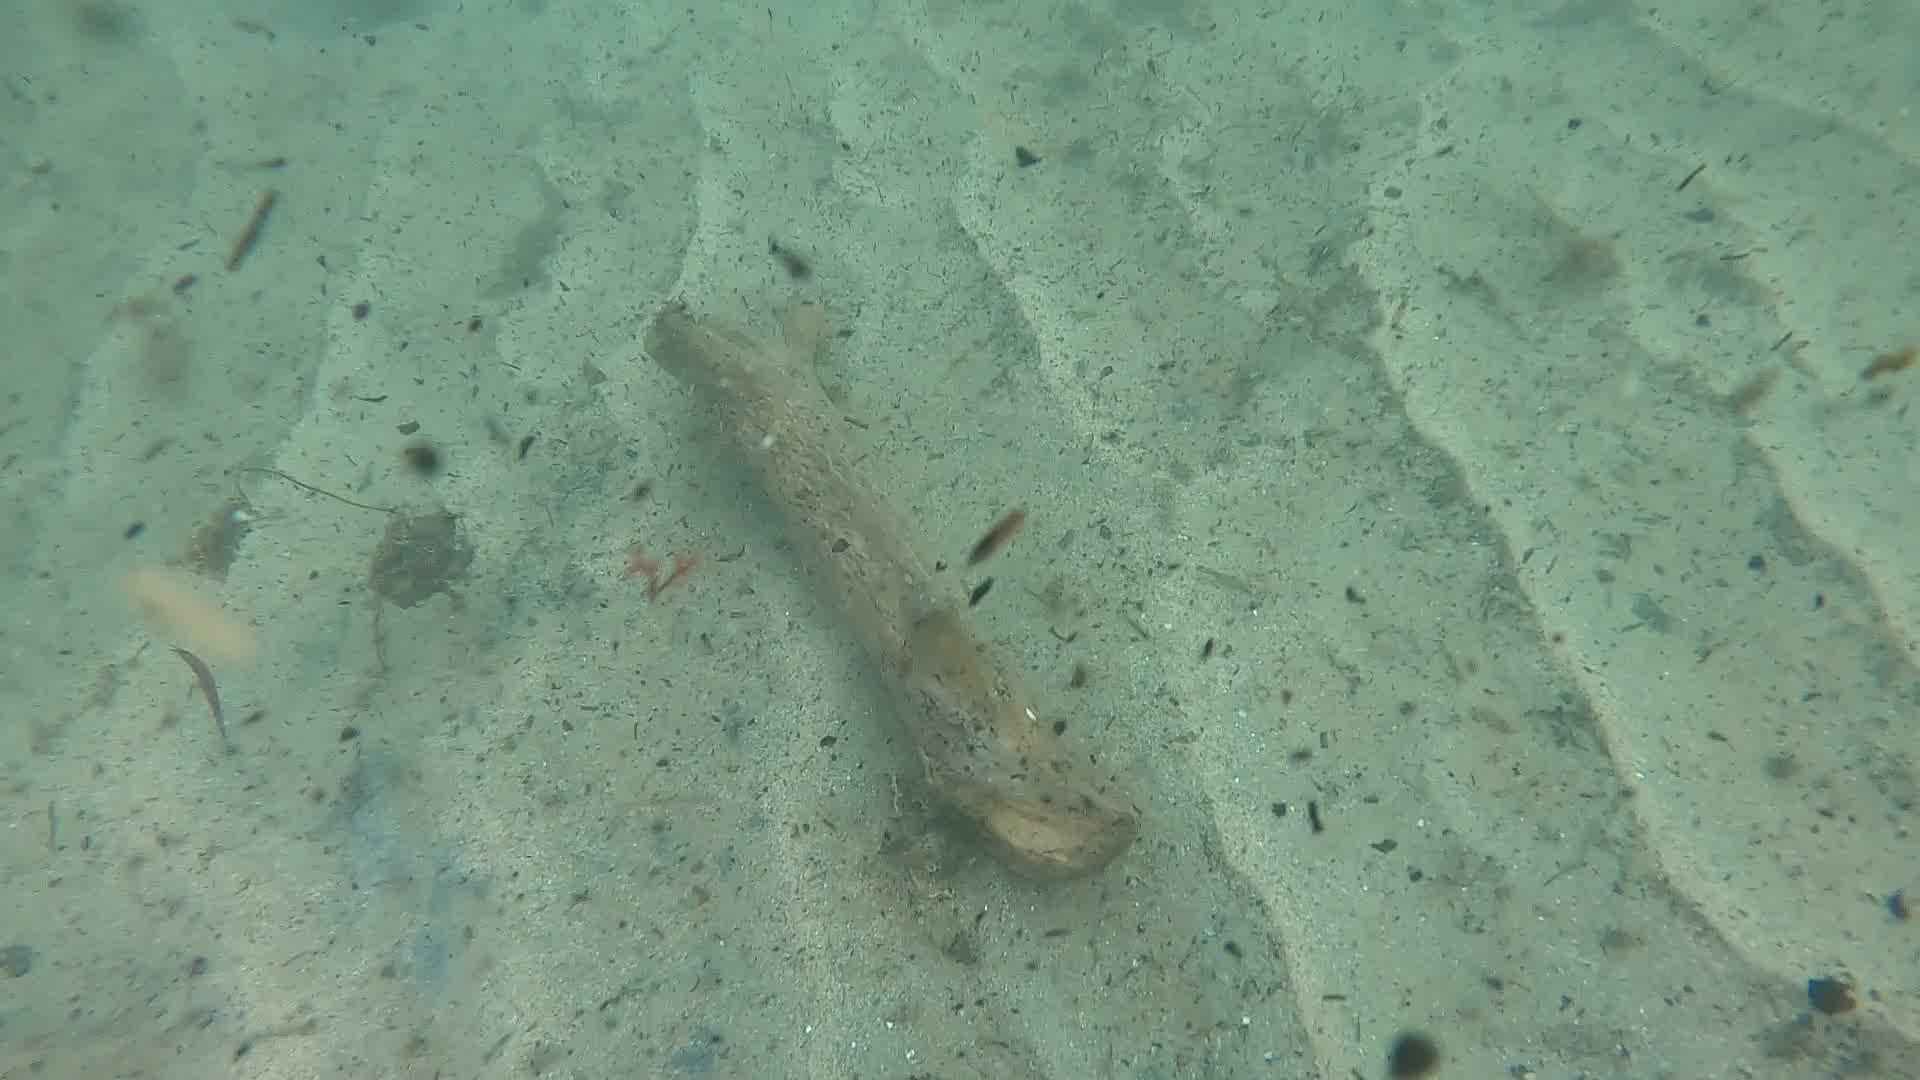wood: (640, 299, 1137, 884)
